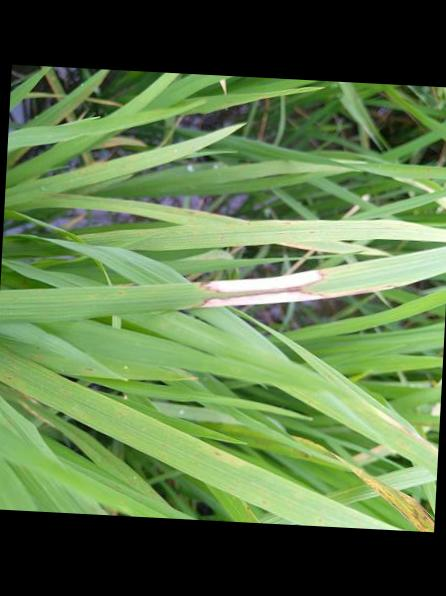Leaf Blight: (347, 462, 435, 532)
Leaf Streak: (203, 269, 327, 306)
